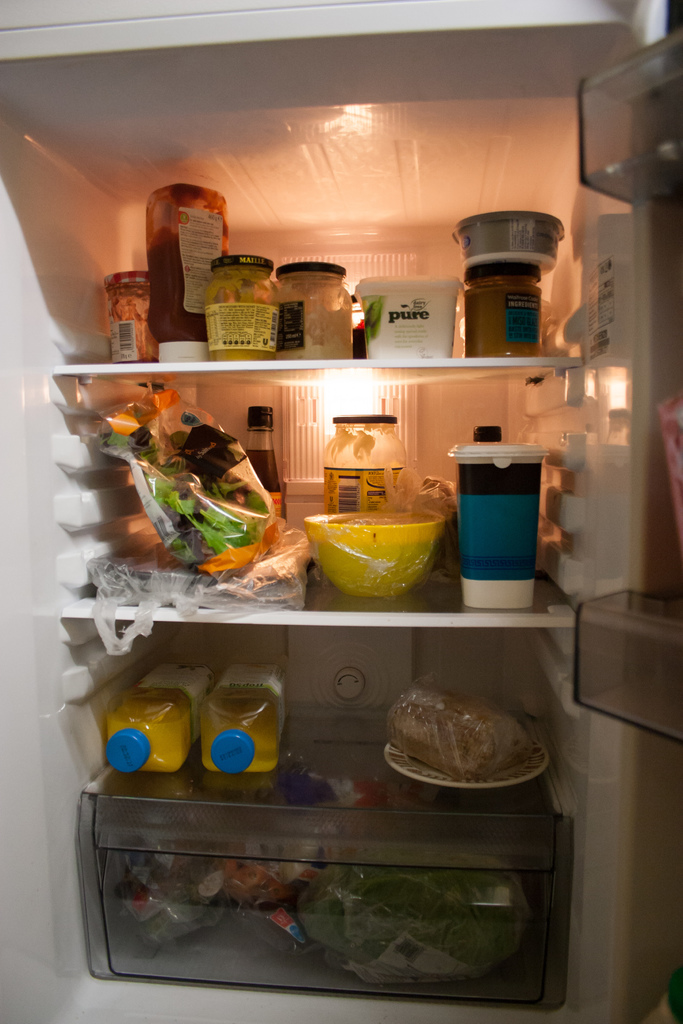refrigerator door: (621, 129, 683, 953)
